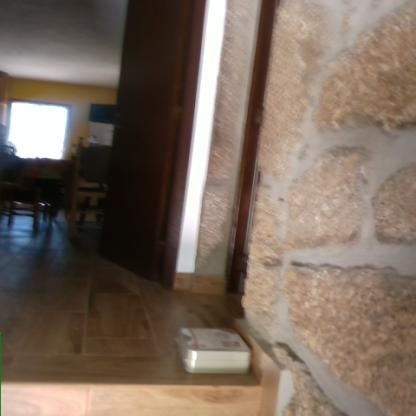open: (0, 0, 191, 292)
